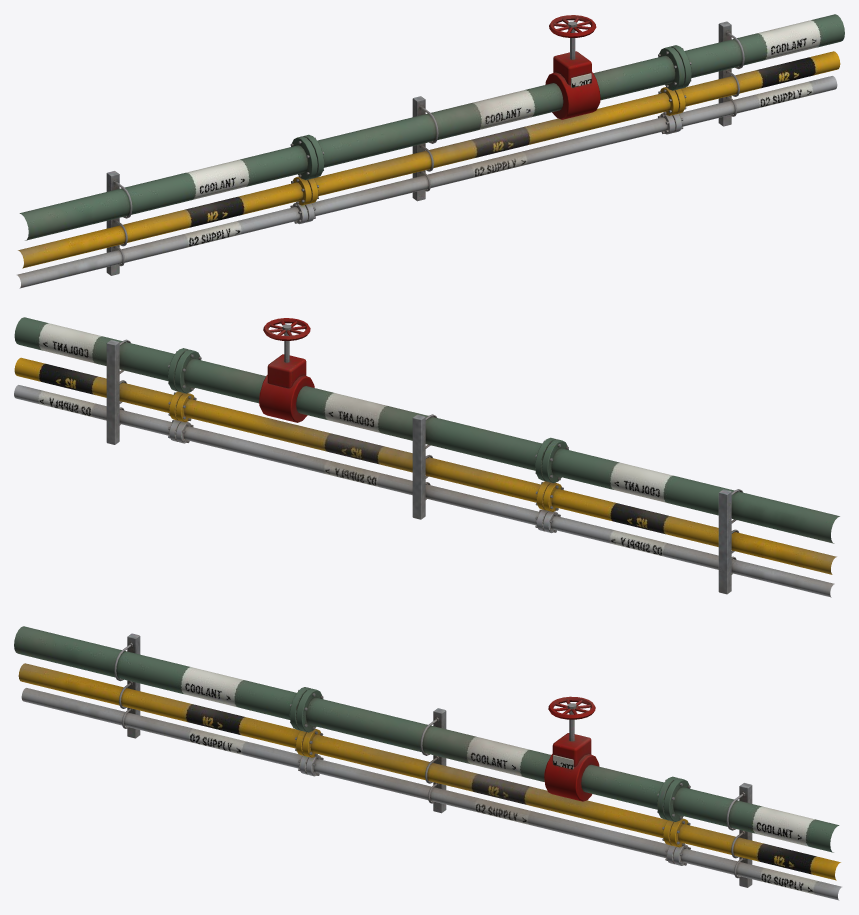
The model's file is pipe_run_wall.glb.
3 views of the same model, one above another, from view 1: azimuth 30°, elevation 25°; view 2: azimuth 150°, elevation 25°; view 3: azimuth 330°, elevation 25° (orthographic).
Parts seen in each view (by area): view 1: pipe_run_wall; view 2: pipe_run_wall; view 3: pipe_run_wall.
Part boxes in pixels (bbox=[...]): pipe_run_wall: bbox=[17, 14, 844, 288]; pipe_run_wall: bbox=[14, 317, 839, 597]; pipe_run_wall: bbox=[14, 626, 841, 900].
Size of the model in its own units: 4 by 0.695 by 0.212.
Materials: 1 (1 with a texture image).
